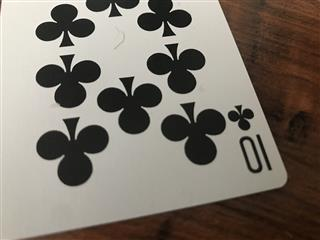TenOfClubs: (1, 1, 288, 240)
